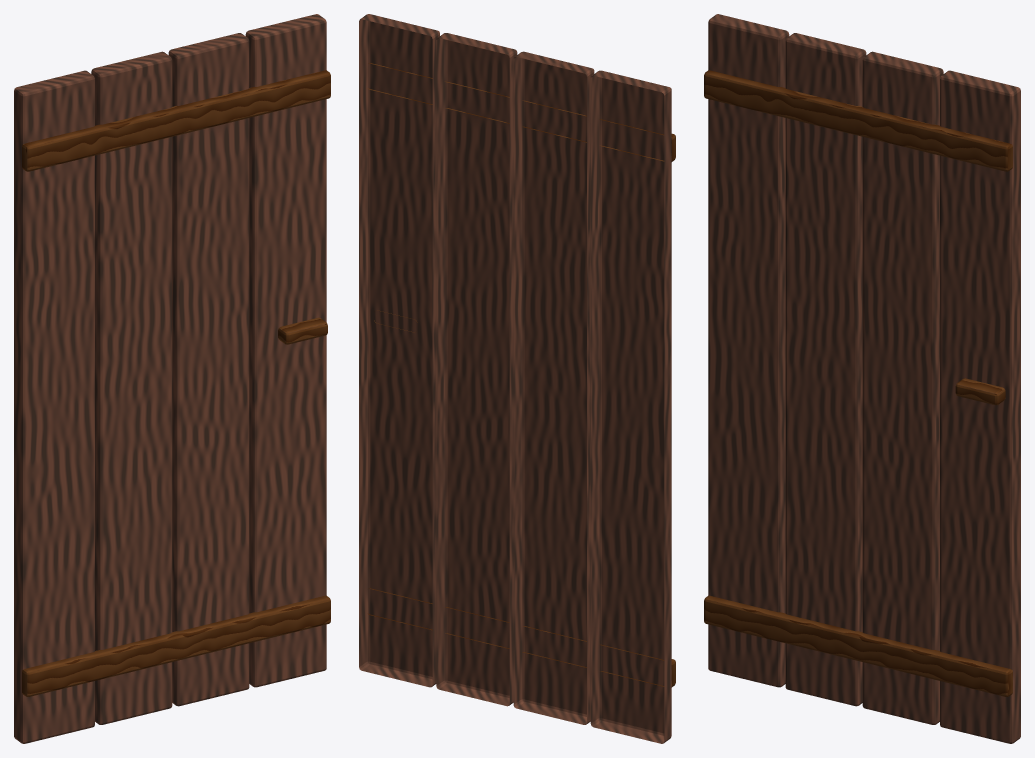
File: Building_2_door.fbx
The picture shows the model from 3 angles, left to right: view 1: azimuth 30°, elevation 25°; view 2: azimuth 150°, elevation 25°; view 3: azimuth 330°, elevation 25°; orthographic projection.
Visible parts, largest first — view 1: NewDoor_2.001; view 2: NewDoor_2.001; view 3: NewDoor_2.001.
Part boxes in pixels (x1,y1,x2,y2): NewDoor_2.001: (14,14,330,743); NewDoor_2.001: (359,14,675,743); NewDoor_2.001: (704,14,1020,743).
Size of the model in its own units: 3.3 by 35.15 by 71.7.
Materials: 1 (1 with a texture image).
